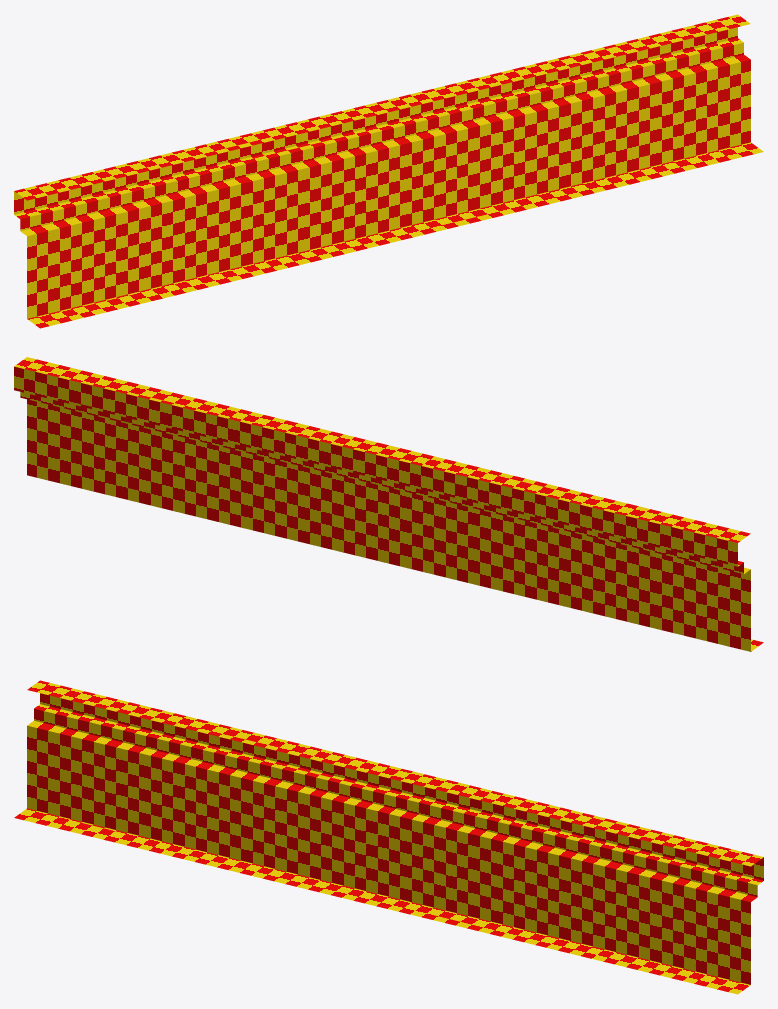
File: CeilingDecoration.fbx
3 renders of one model, top to bottom at view 1: azimuth 30°, elevation 25°; view 2: azimuth 150°, elevation 25°; view 3: azimuth 330°, elevation 25°, orthographic.
Visible parts, largest first — view 1: CeilingDecoration; view 2: CeilingDecoration; view 3: CeilingDecoration.
Part boxes in pixels (x1=…): CeilingDecoration: x1=14, y1=14, x2=763, y2=328; CeilingDecoration: x1=14, y1=357, x2=763, y2=651; CeilingDecoration: x1=14, y1=680, x2=763, y2=994.
Bounding box in the file's own units: 64 × 10 × 4.
